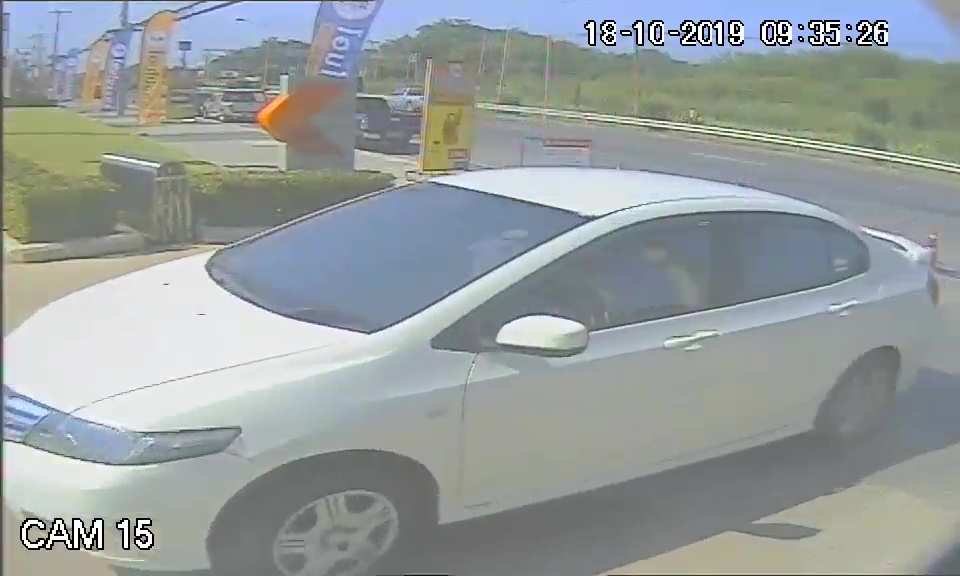sedan: (22, 163, 800, 532)
